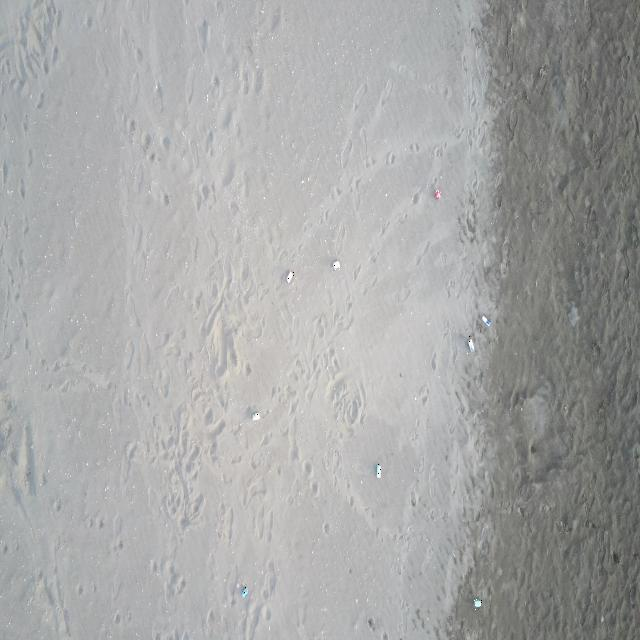Garbage: (480, 315, 491, 327), (240, 584, 247, 597), (467, 335, 472, 352), (332, 260, 340, 270), (286, 272, 293, 283), (433, 188, 440, 199), (473, 597, 480, 607), (375, 463, 380, 477), (252, 412, 260, 420)
